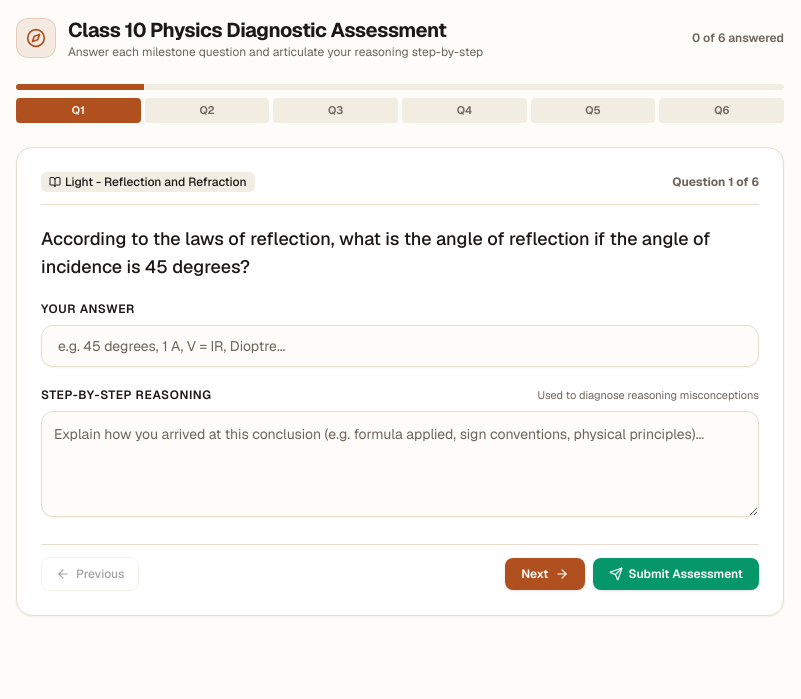
renders diagnostic assessment intake screen and submits calibrated answers
This screenshot has width=801, height=699.
Check: the heading "Class 10 Physics Diagnostic Assessment" is shown, box x1=68 y1=16 x2=483 y2=44
Check: the heading "According to the laws of reflection" is shown, box x1=41 y1=226 x2=710 y2=278
Fill in answer and reasoning for Q1
In the field labelled "Your Answer": (400, 346) x1=41 y1=324 x2=759 y2=366, type "45 degrees"
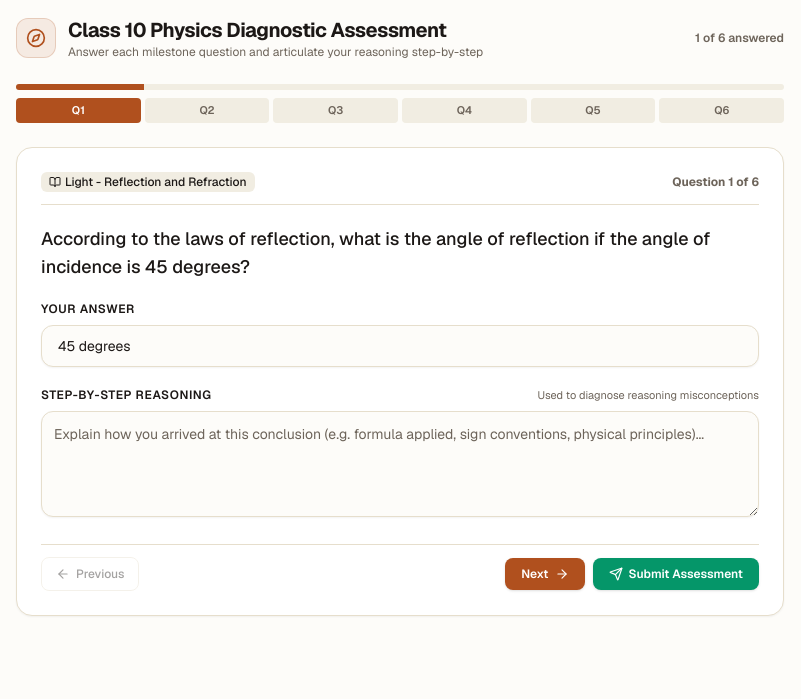
Replace the text in the text box labelled "Step-by-Step Reasoning" with "Angle of incidence equals angle of reflection (i = r)": (400, 464) x1=41 y1=411 x2=759 y2=517
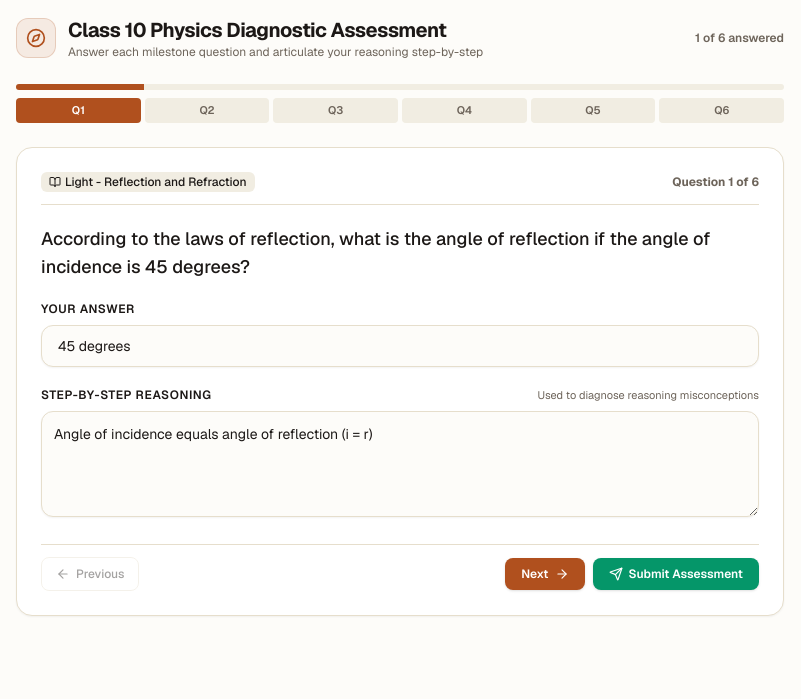
Submit assessment
Click the button "Submit Assessment": (676, 574) x1=592 y1=558 x2=759 y2=590
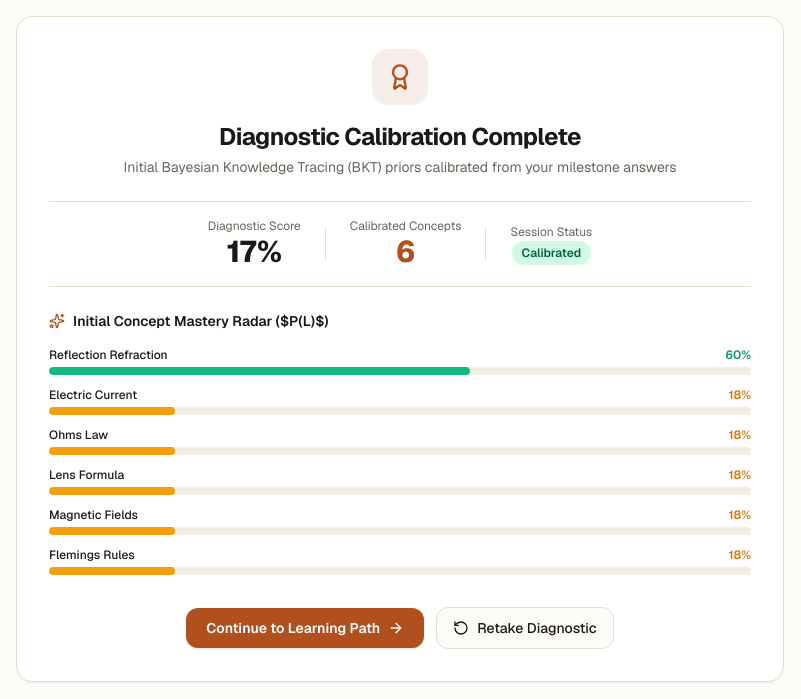
Check: the heading "Diagnostic Calibration Complete" is shown, box x1=219 y1=121 x2=581 y2=152
Check: the text "Diagnostic Score" is shown, box x1=208 y1=218 x2=301 y2=234
Check: the heading "Initial Concept Mastery Radar ($P(L)$)" is shown, box x1=49 y1=312 x2=329 y2=330
